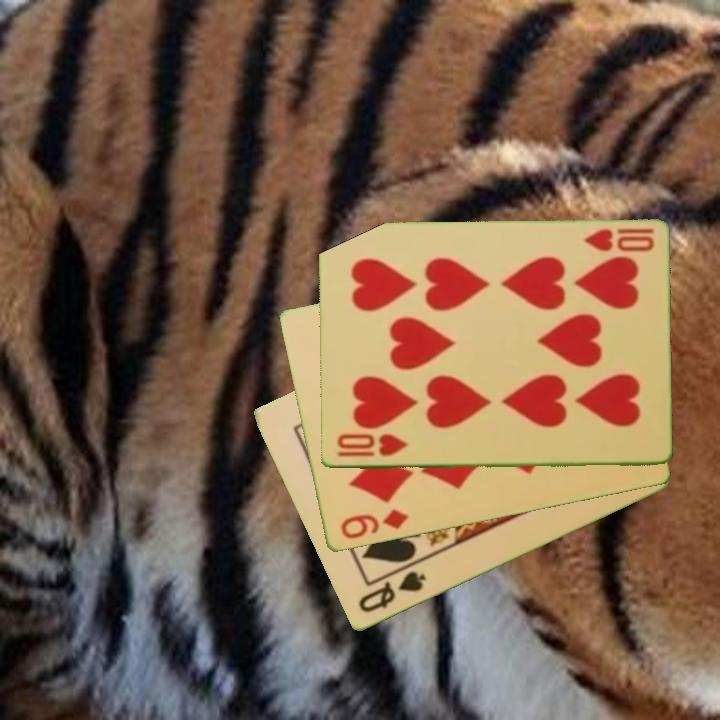10h: (580, 225, 657, 255), (333, 431, 410, 460)
9d: (337, 506, 412, 543)
Qs: (354, 568, 429, 616)
